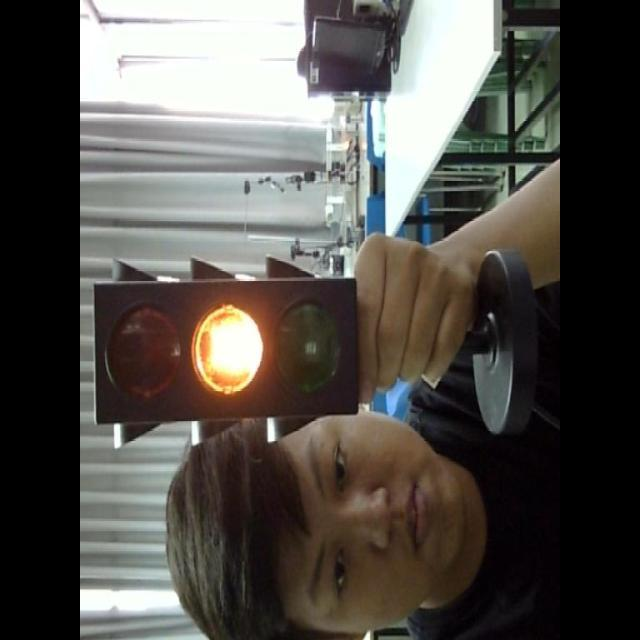yellow light: (186, 283, 276, 403)
